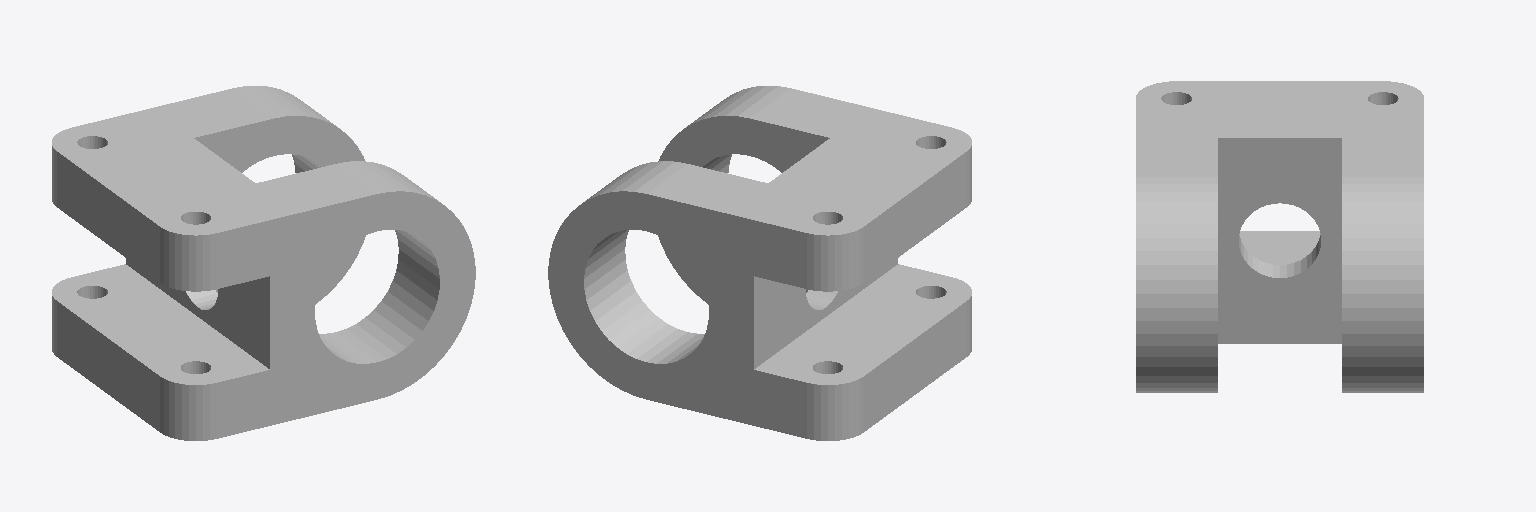
Rendered from EGAD_TestObject.obj.
3 renders of one model, left to right at view 1: azimuth 30°, elevation 25°; view 2: azimuth 150°, elevation 25°; view 3: azimuth 270°, elevation 25°, orthographic.
Parts seen in each view (by area): view 1: EGAD_TestObject; view 2: EGAD_TestObject; view 3: EGAD_TestObject.
Part boxes in pixels (bbox=[...]): EGAD_TestObject: bbox=[52, 86, 475, 440]; EGAD_TestObject: bbox=[548, 86, 971, 440]; EGAD_TestObject: bbox=[1136, 81, 1423, 392].
Size of the model in its own units: 4.21 by 2.81 by 3.57.